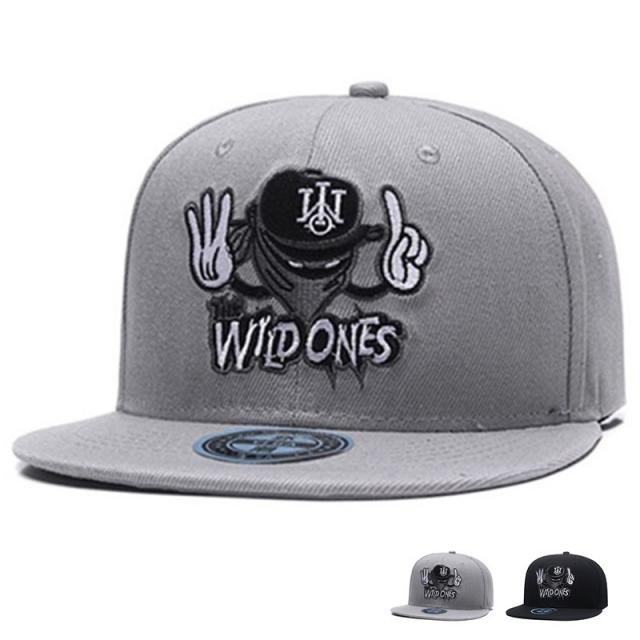mask: (17, 77, 631, 511), (395, 542, 624, 632)
